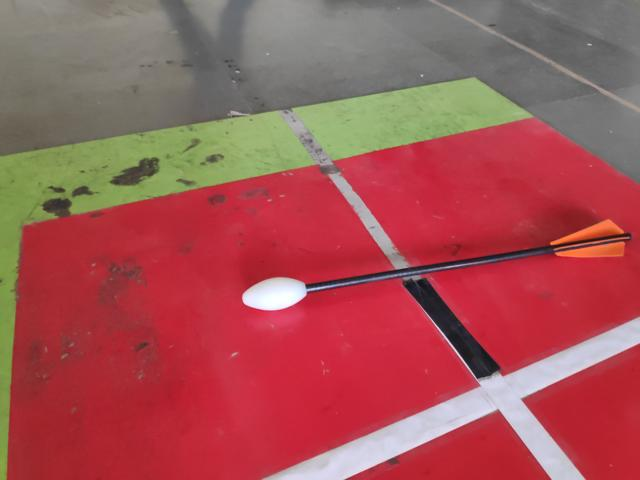Head: (241, 273, 309, 311)
Tail: (545, 216, 635, 260)
